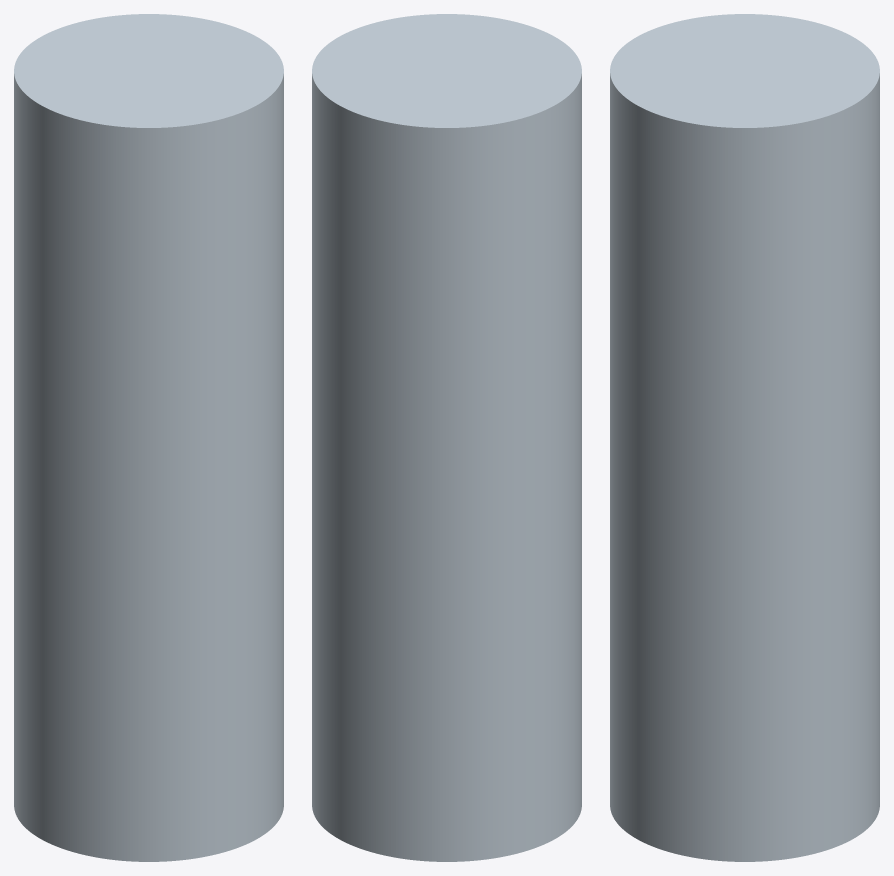
The model's file is body.dae.
The picture shows the model from 3 angles, left to right: view 1: azimuth 30°, elevation 25°; view 2: azimuth 150°, elevation 25°; view 3: azimuth 270°, elevation 25°; orthographic projection.
Parts seen in each view (by area): view 1: 5df8c7c417b94711b56c634f; view 2: 5df8c7c417b94711b56c634f; view 3: 5df8c7c417b94711b56c634f.
Part boxes in pixels (x1,y1,x2,y2): 5df8c7c417b94711b56c634f: (14,14,283,861); 5df8c7c417b94711b56c634f: (312,14,581,861); 5df8c7c417b94711b56c634f: (610,14,879,861).
Size of the model in its own units: 0.2 by 0.2 by 0.6.
